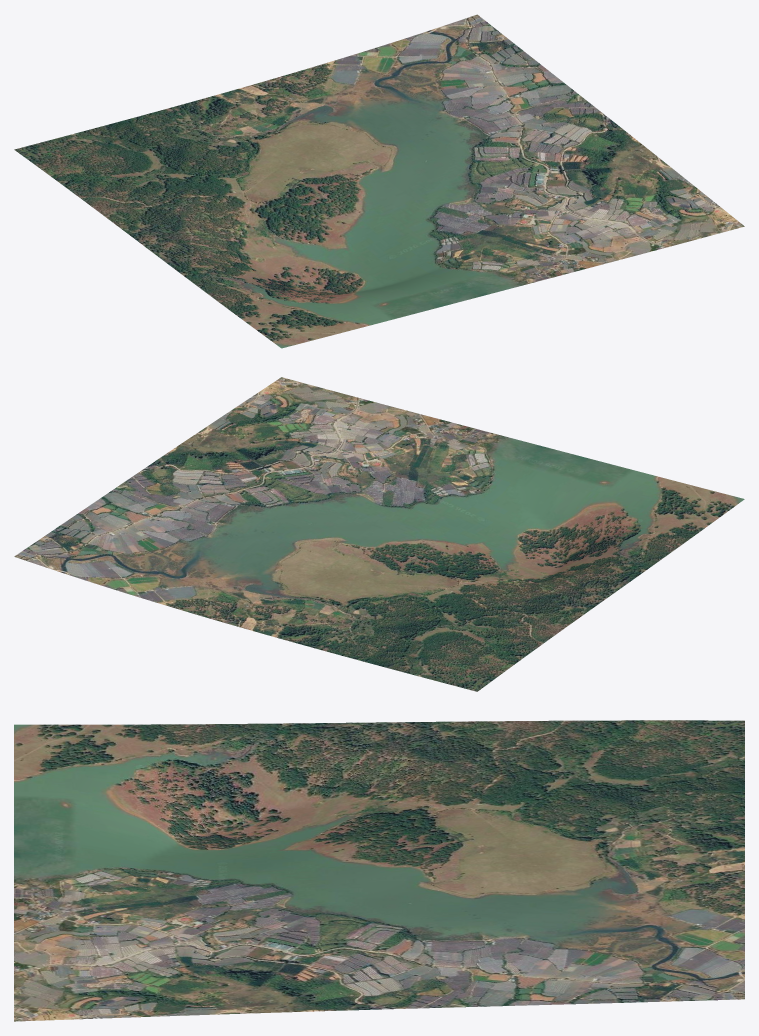
The model's file is terrain_real_T_W03_N05.glb.
3 views of the same model, one above another, from view 1: azimuth 30°, elevation 25°; view 2: azimuth 150°, elevation 25°; view 3: azimuth 270°, elevation 25° (orthographic). The views are drawn at different scales.
Visible parts, largest first — view 1: Terrain_Real_DEM_T_W03_N05; view 2: Terrain_Real_DEM_T_W03_N05; view 3: Terrain_Real_DEM_T_W03_N05.
Boxes of the visible parts, box(x1,y1,x2,y2) form: Terrain_Real_DEM_T_W03_N05: box(14, 14, 744, 348); Terrain_Real_DEM_T_W03_N05: box(14, 377, 744, 691); Terrain_Real_DEM_T_W03_N05: box(14, 720, 744, 1021).
Bounding box in the file's own units: 2000 × 202 × 2000.
1 material, 1 textured.
